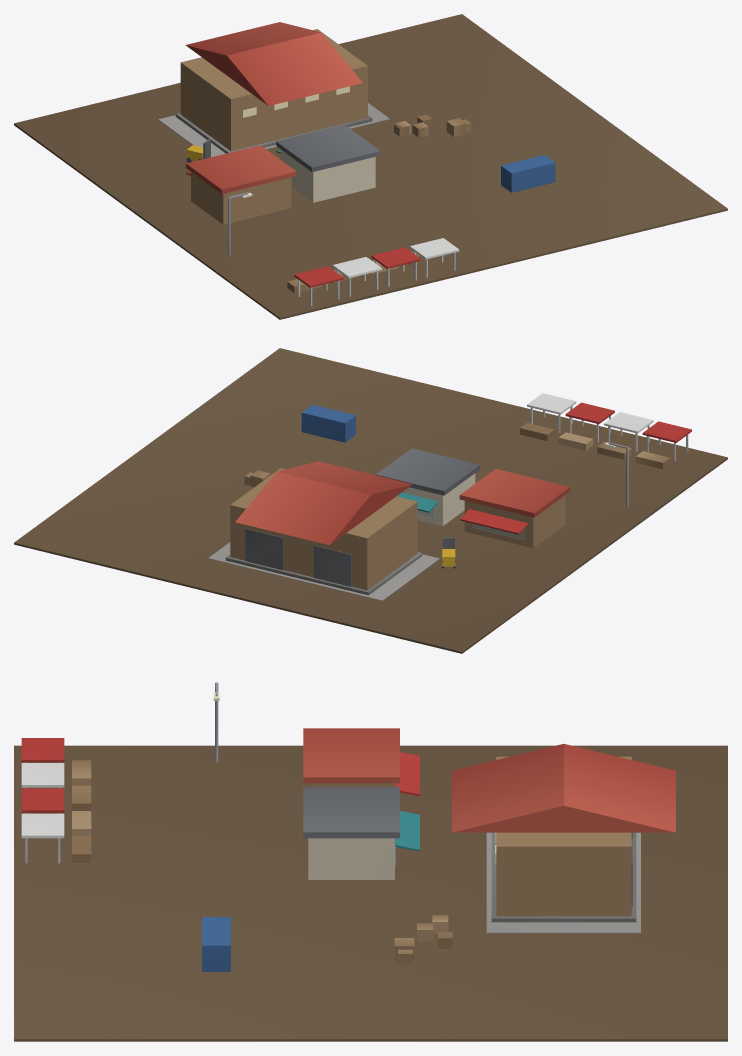
File: Market_P1.fbx
3 renders of one model, top to bottom at view 1: azimuth 30°, elevation 25°; view 2: azimuth 150°, elevation 25°; view 3: azimuth 270°, elevation 25°, orthographic. The views are drawn at different scales.
Visible parts, largest first — view 1: Market.Pad, Market.WH1, Market.Shop0, Market.Shop1, Market.Stalls, Market.Goods; view 2: Market.Pad, Market.WH1, Market.Shop0, Market.Stalls, Market.Shop1, Market.Goods; view 3: Market.Pad, Market.WH1, Market.Shop1, Market.Stalls, Market.Shop0, Market.Goods.
Part boxes in pixels (bbox=[...]): Market.Pad: bbox=[14, 14, 727, 319]; Market.WH1: bbox=[175, 22, 372, 153]; Market.Shop0: bbox=[186, 145, 296, 224]; Market.Shop1: bbox=[276, 125, 380, 202]; Market.Stalls: bbox=[287, 238, 459, 305]; Market.Goods: bbox=[394, 114, 555, 192]; Market.Pad: bbox=[14, 348, 727, 653]; Market.WH1: bbox=[225, 461, 422, 595]; Market.Shop0: bbox=[459, 469, 570, 547]; Market.Stalls: bbox=[520, 393, 691, 469]; Market.Shop1: bbox=[375, 448, 480, 526]; Market.Goods: bbox=[244, 405, 355, 487]; Market.Pad: bbox=[14, 745, 727, 1041]; Market.WH1: bbox=[452, 744, 675, 922]; Market.Shop1: bbox=[303, 787, 419, 879]; Market.Stalls: bbox=[21, 738, 91, 863]; Market.Shop0: bbox=[303, 728, 419, 796]; Market.Goods: bbox=[202, 915, 452, 971].
Size of the model in its own units: 7200 by 1189 by 7400.
